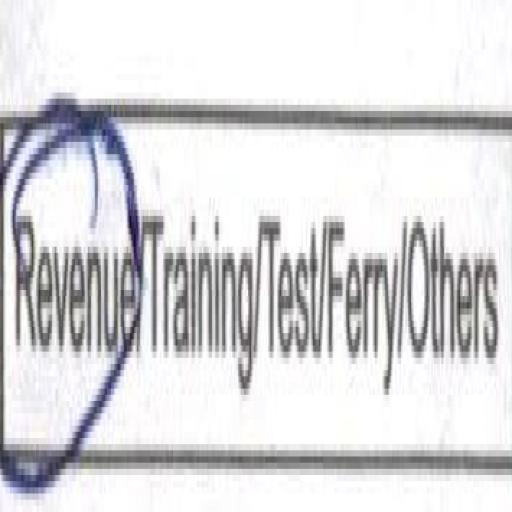check: (0, 61, 138, 512)
